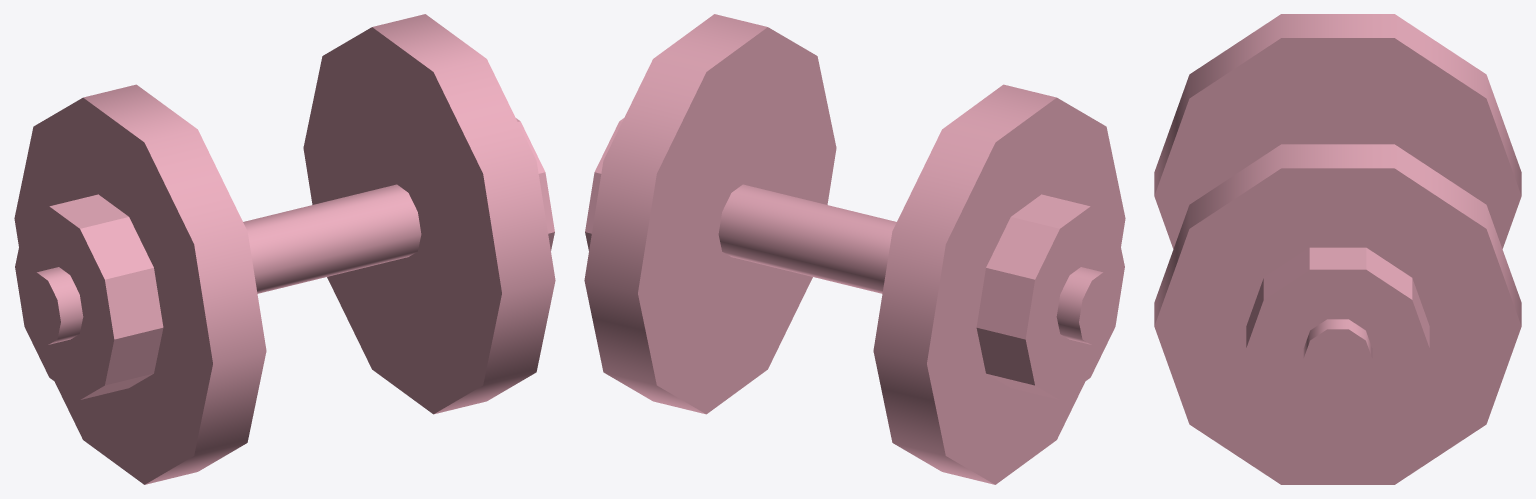
3 views of the same model, side by side, from view 1: azimuth 30°, elevation 25°; view 2: azimuth 150°, elevation 25°; view 3: azimuth 270°, elevation 25° (orthographic). The views are drawn at different scales.
Parts seen in each view (by area): view 1: Cylinder001.001; view 2: Cylinder001.001; view 3: Cylinder001.001.
Boxes of the visible parts, x1,y1,x2,y2 form: Cylinder001.001: (14, 14, 555, 484); Cylinder001.001: (584, 14, 1125, 484); Cylinder001.001: (1154, 14, 1521, 484).
Size of the model in its own units: 56.78 by 38.3 by 40.27.
